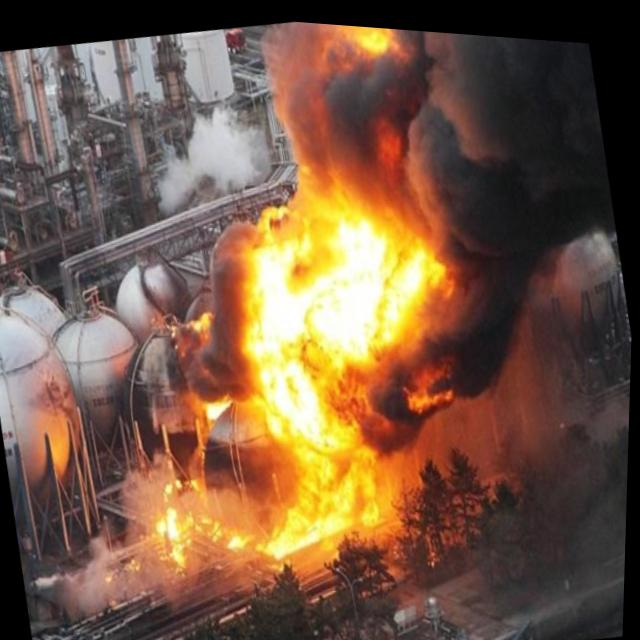fire: (196, 174, 496, 584), (320, 19, 416, 70), (148, 495, 207, 577), (195, 380, 237, 426), (183, 298, 223, 345), (158, 468, 206, 503), (219, 517, 261, 554), (195, 505, 220, 531)
